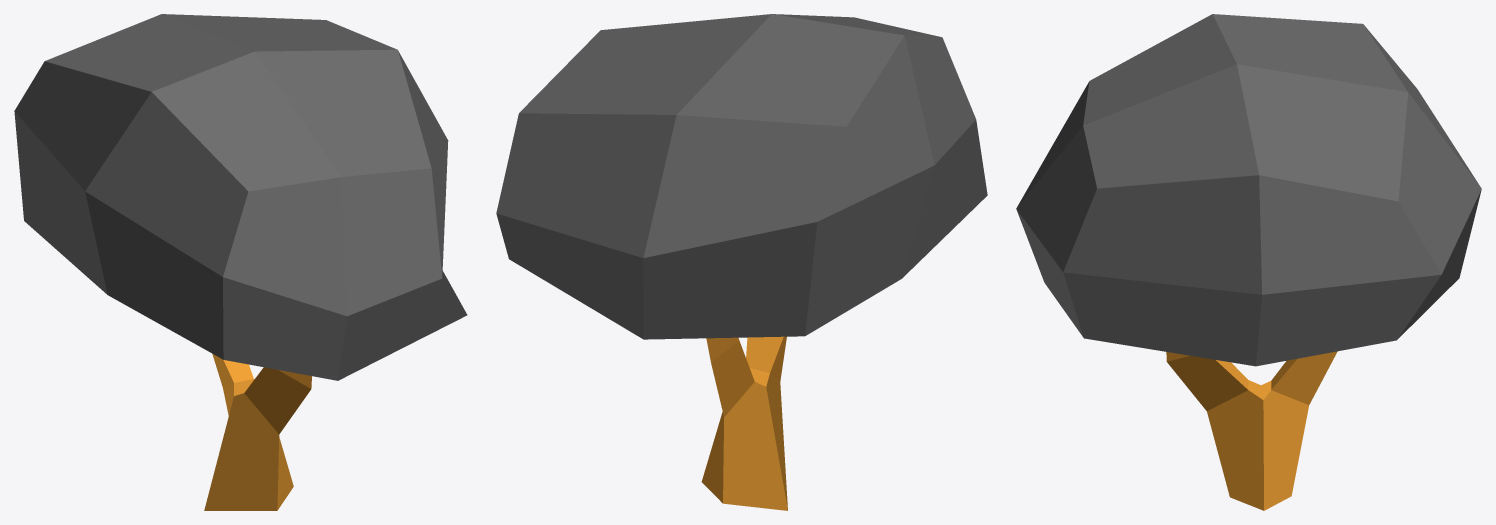
File: bush_0.obj
3 views of the same model, side by side, from view 1: azimuth 30°, elevation 25°; view 2: azimuth 150°, elevation 25°; view 3: azimuth 270°, elevation 25° (orthographic). The views are drawn at different scales.
Visible parts, largest first — view 1: bush_0; view 2: bush_0; view 3: bush_0.
Boxes of the visible parts, x1,y1,x2,y2 form: bush_0: (14, 14, 467, 510); bush_0: (496, 14, 987, 510); bush_0: (1016, 14, 1481, 510).
Bounding box in the file's own units: 5.55 × 6.63 × 6.55.
